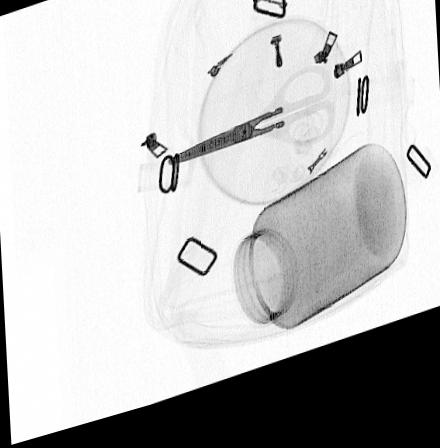Scissors: (166, 79, 337, 180)
